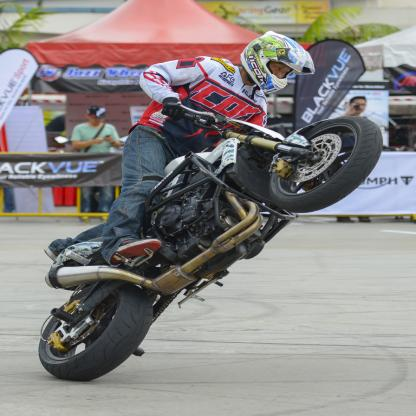Helmet: (242, 34, 312, 88)
